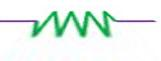resistor: (28, 4, 118, 43)
